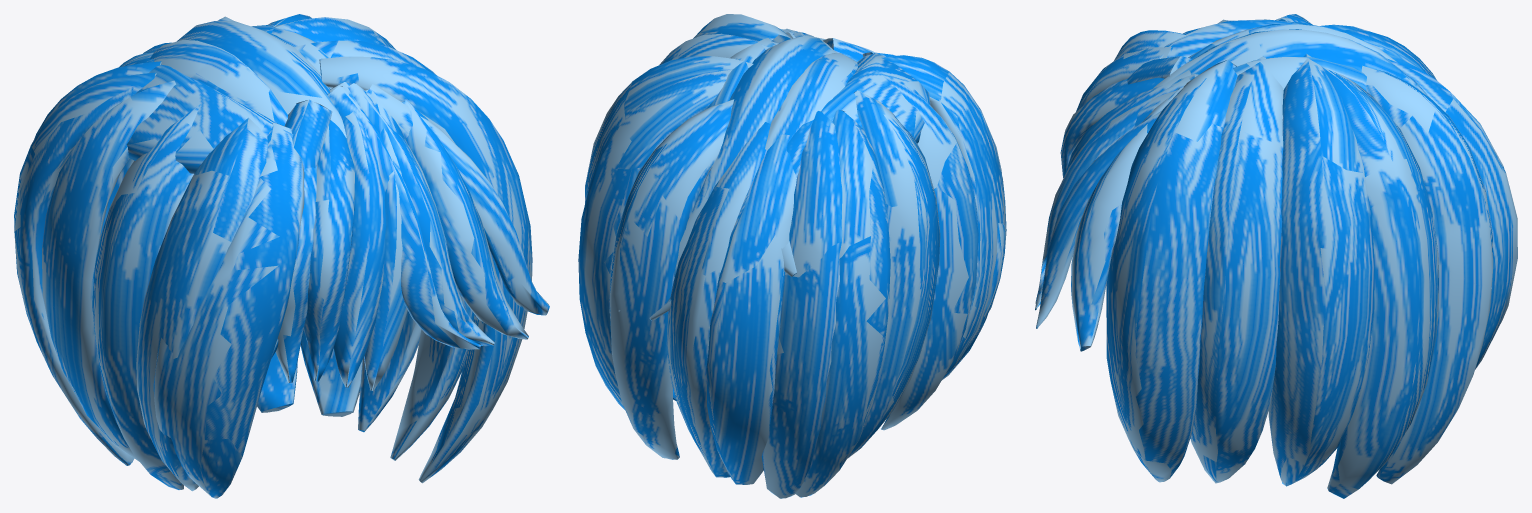
The model's file is ADBASE_ANGEL_hair.fbx.
3 renders of one model, left to right at view 1: azimuth 30°, elevation 25°; view 2: azimuth 150°, elevation 25°; view 3: azimuth 270°, elevation 25°, orthographic. The views are drawn at different scales.
Visible parts, largest first — view 1: AngelHair; view 2: AngelHair; view 3: AngelHair.
Boxes of the visible parts, box(x1,y1,x2,y2) form: AngelHair: box(14, 14, 549, 498); AngelHair: box(578, 14, 1006, 498); AngelHair: box(1035, 14, 1517, 498).
Size of the model in its own units: 48.38 by 53.52 by 54.99.
